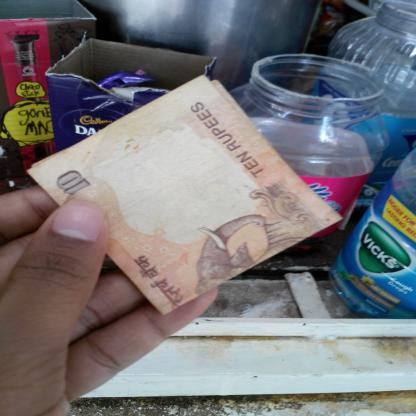Old10Back: (26, 72, 342, 316)
